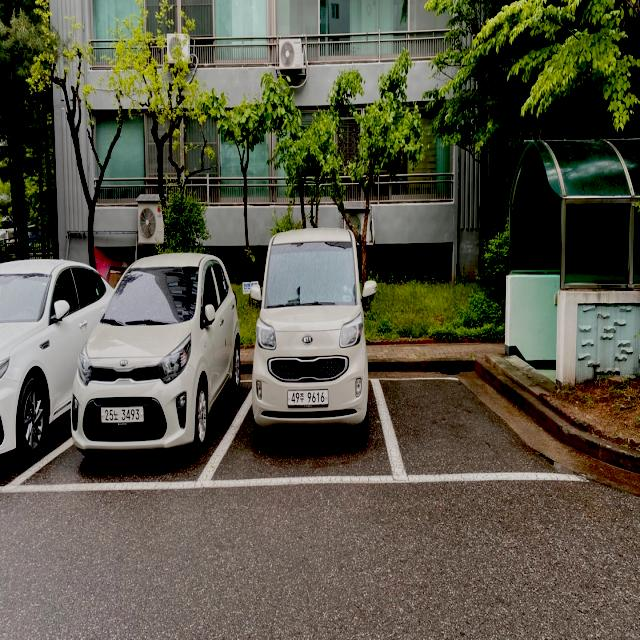empty: (373, 375, 590, 483)
occupied: (72, 253, 224, 456), (248, 227, 368, 434), (0, 255, 70, 472)
